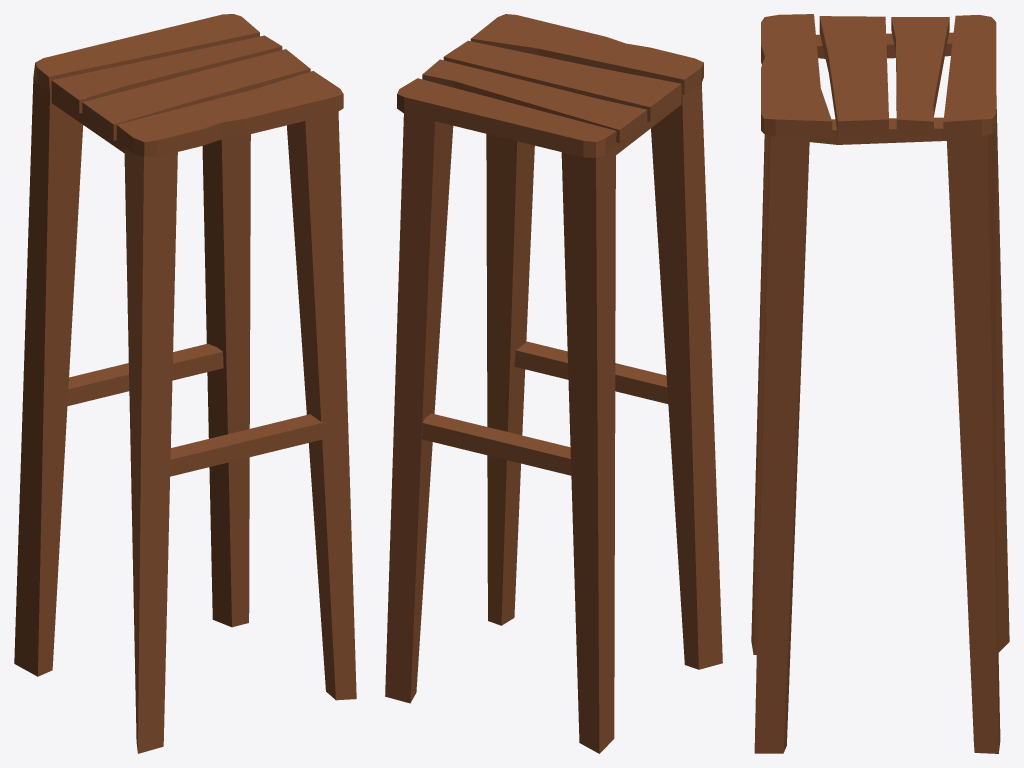
The model's file is chairwoodbarstool02.obj.
The picture shows the model from 3 angles, left to right: view 1: azimuth 30°, elevation 25°; view 2: azimuth 150°, elevation 25°; view 3: azimuth 270°, elevation 25°; orthographic projection. The views are drawn at different scales.
Visible parts, largest first — view 1: Cube_Cube.001; view 2: Cube_Cube.001; view 3: Cube_Cube.001.
Boxes of the visible parts, x1=… form: Cube_Cube.001: x1=14, y1=14, x2=356, y2=753; Cube_Cube.001: x1=385, y1=14, x2=722, y2=753; Cube_Cube.001: x1=751, y1=14, x2=1009, y2=753.
Size of the model in its own units: 0.2476 by 0.6504 by 0.2408.
